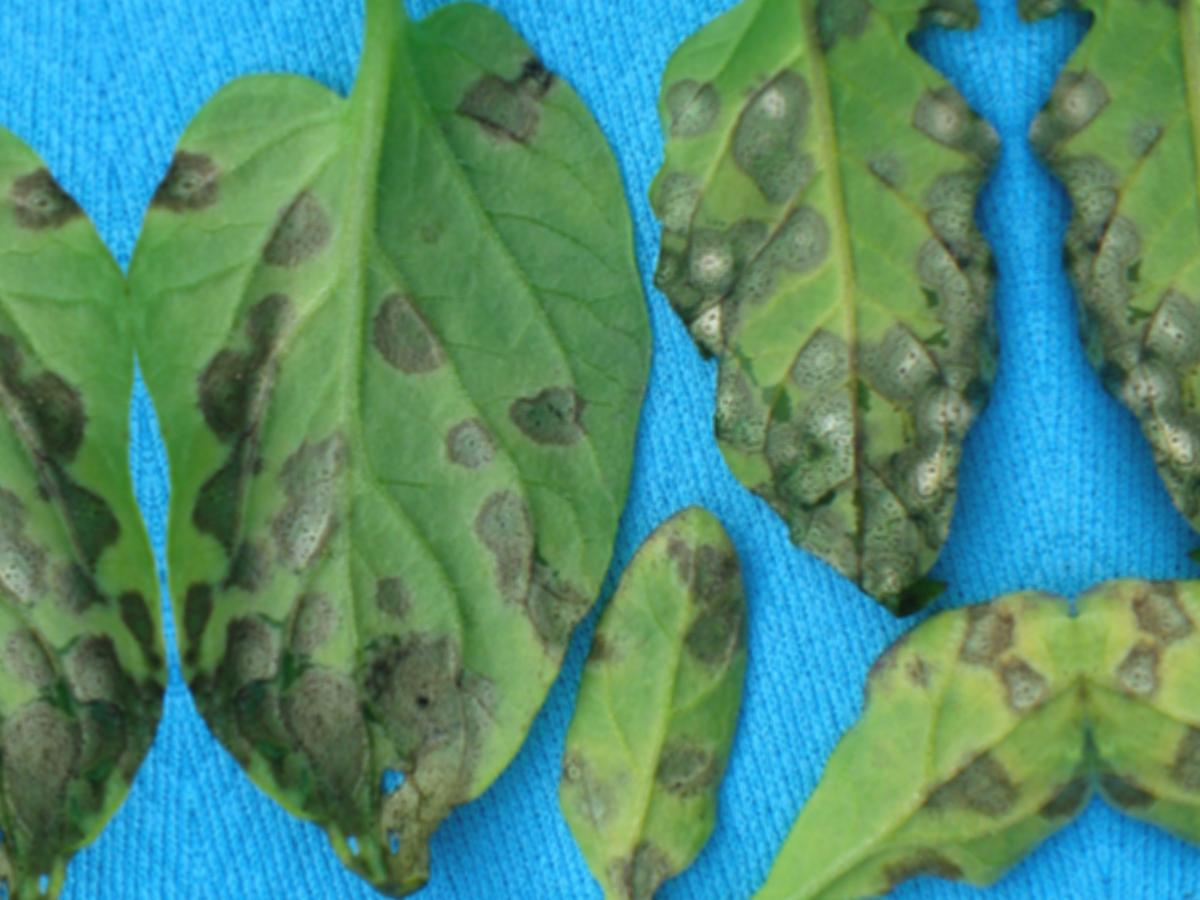Tomato Septoria leaf spot: (105, 0, 725, 900), (603, 0, 1066, 667), (700, 600, 1108, 900), (518, 487, 791, 900)
